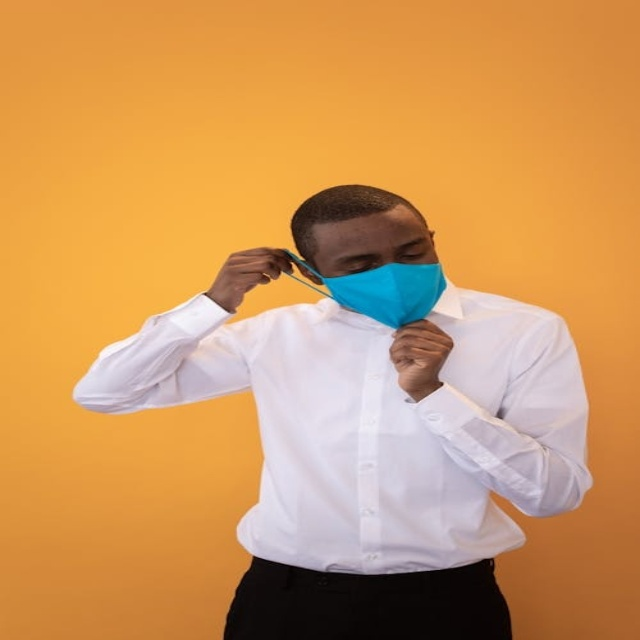Mascara: (298, 253, 445, 328)
Sin_gafas: (332, 234, 431, 275)
Sin_guantes: (209, 245, 294, 307), (384, 319, 454, 380)
